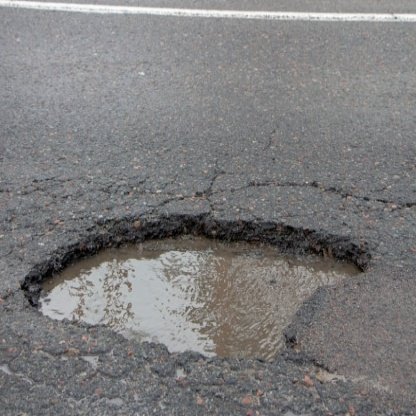pothole: (17, 209, 389, 361)
